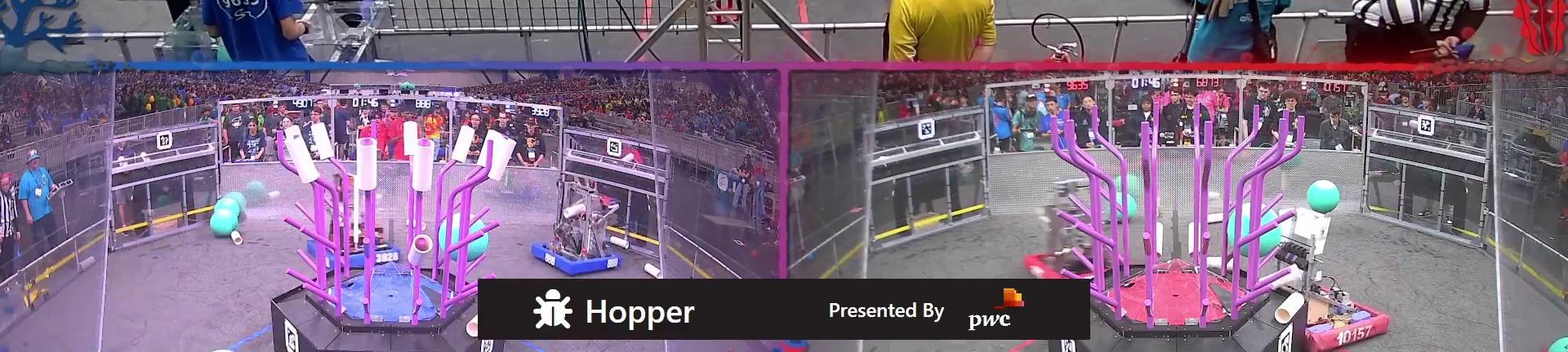coral: (285, 135, 319, 184), (412, 140, 435, 191), (490, 136, 516, 181), (357, 137, 378, 192), (1259, 264, 1301, 289), (477, 130, 504, 168), (452, 126, 476, 164), (1276, 292, 1305, 323), (310, 123, 333, 160), (408, 236, 432, 266), (403, 122, 418, 155), (1187, 223, 1201, 258), (1206, 256, 1234, 271), (466, 315, 478, 338), (1156, 223, 1163, 258), (285, 126, 302, 139)
reef: (1046, 102, 1308, 352), (271, 121, 517, 352)
robot: (1277, 209, 1390, 352), (307, 172, 402, 271), (1023, 178, 1115, 279), (532, 180, 622, 276)
